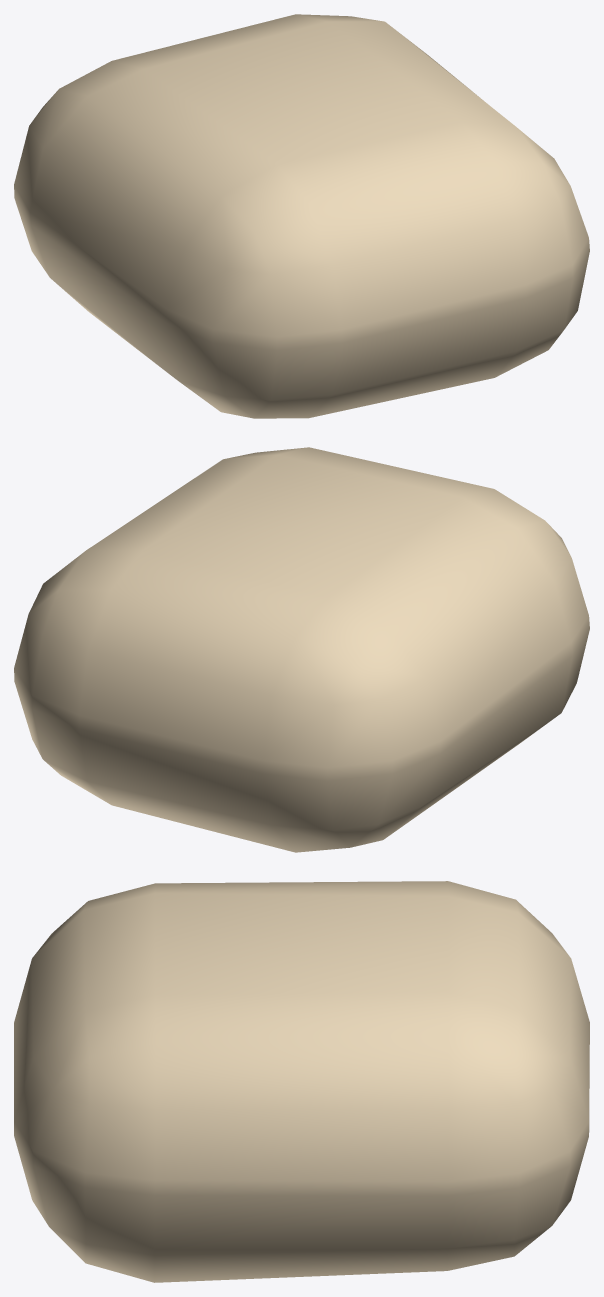
Rendered from DECKSTEIN_RUND.glb.
The picture shows the model from 3 angles, top to bottom: view 1: azimuth 30°, elevation 25°; view 2: azimuth 150°, elevation 25°; view 3: azimuth 270°, elevation 25°; orthographic projection. The views are drawn at different scales.
Visible parts, largest first — view 1: DECKSTEIN_RUND; view 2: DECKSTEIN_RUND; view 3: DECKSTEIN_RUND.
Part boxes in pixels (x1,y1,x2,y2): DECKSTEIN_RUND: (14,14,589,418); DECKSTEIN_RUND: (14,447,589,852); DECKSTEIN_RUND: (14,881,589,1282).
Bounding box in the file's own units: 0.9569 × 0.5584 × 1.06.
